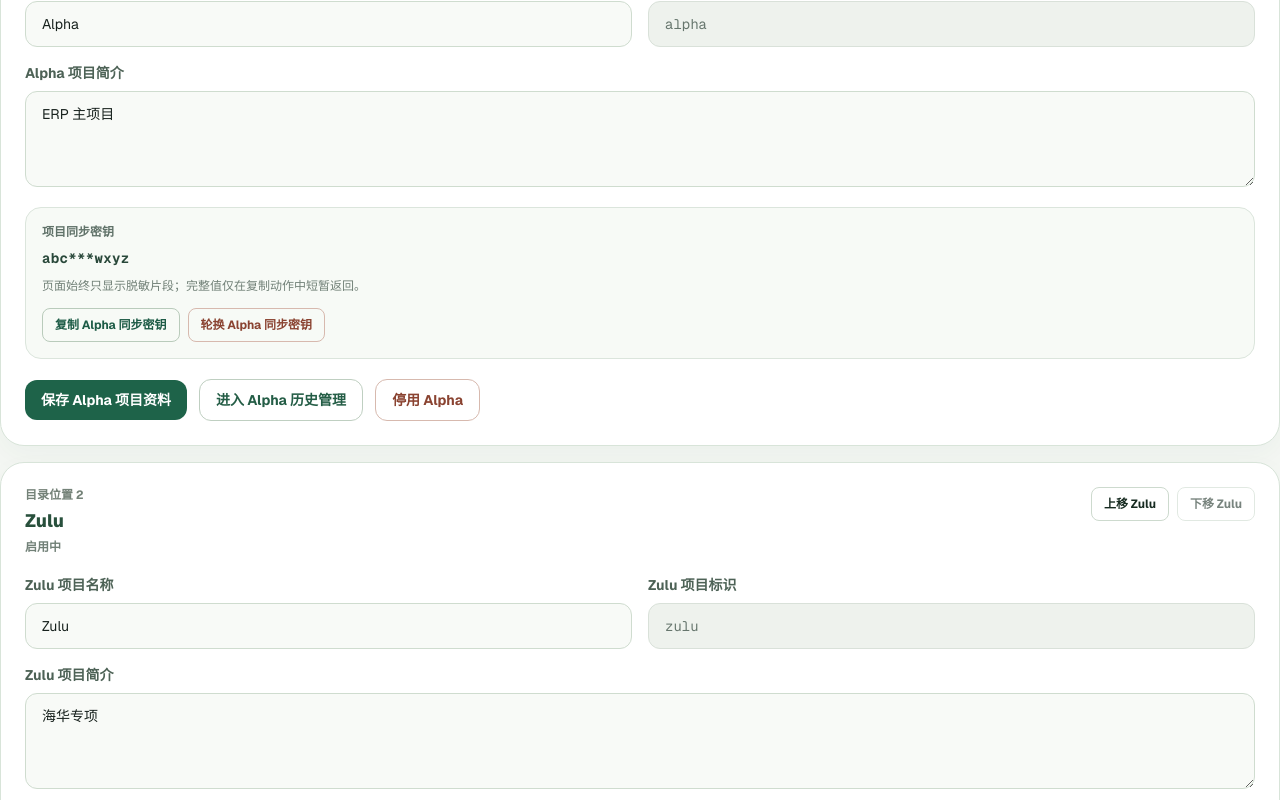
全局项目维护 UI › 同排序值项目按 SQLite NOCASE 规则排列非 ASCII 名称
(page scrolled)
Step 1. Click the button "保存 Alpha 项目资料" → (106, 400), box [25,380,187,420]
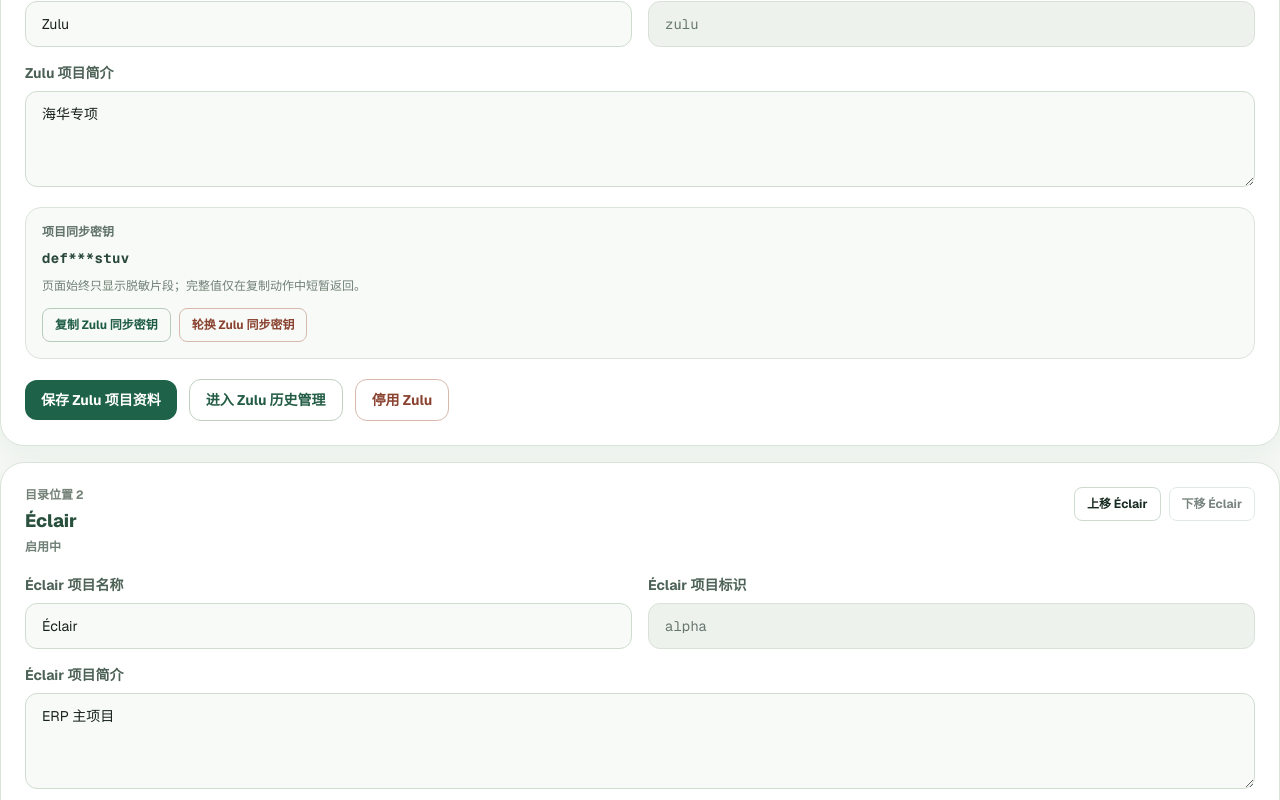
Expected: the field labelled "Zulu 项目名称" is shown, [25,1,632,47]
Expected: the field labelled "Éclair 项目名称" is shown, [25,603,632,649]
